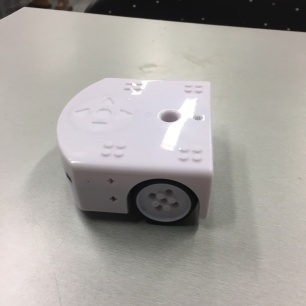thymio: (45, 71, 226, 242)
